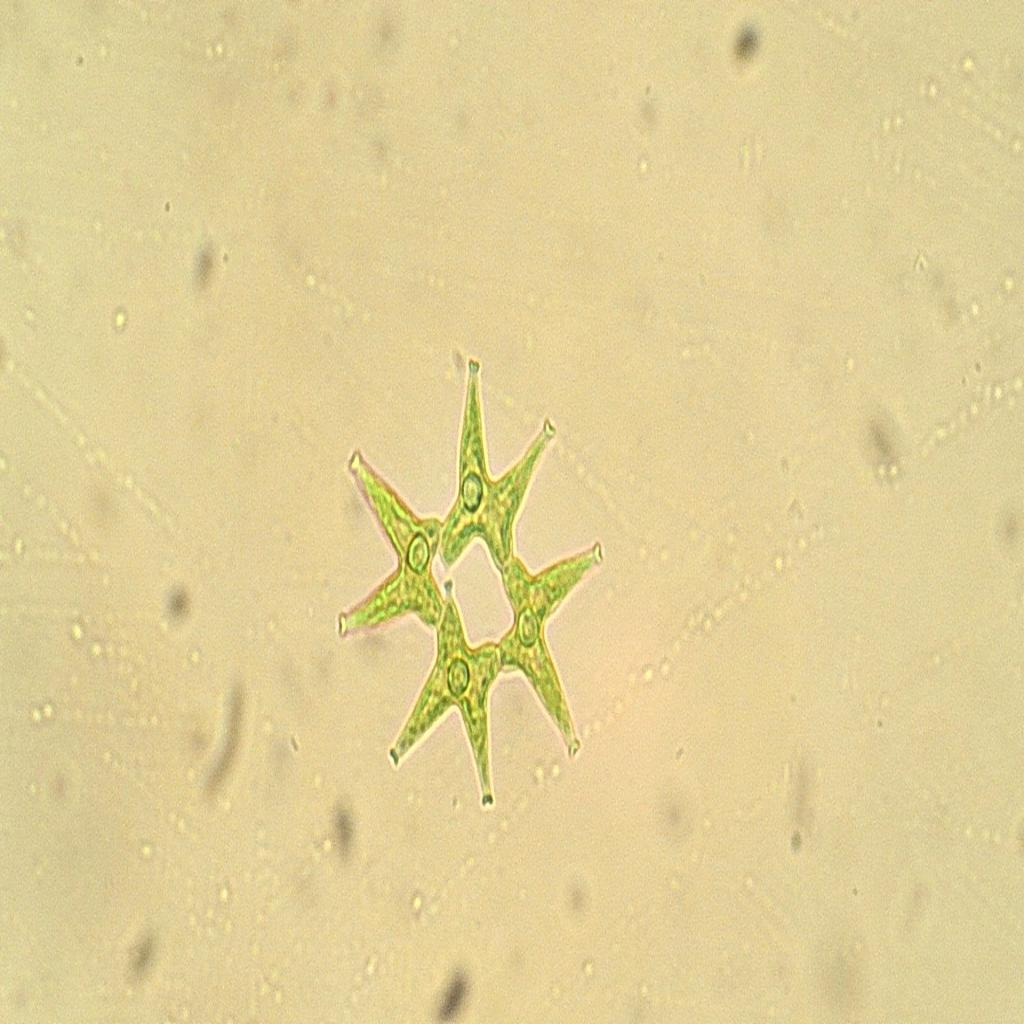Pediastrum_CF: (333, 342, 615, 830)
